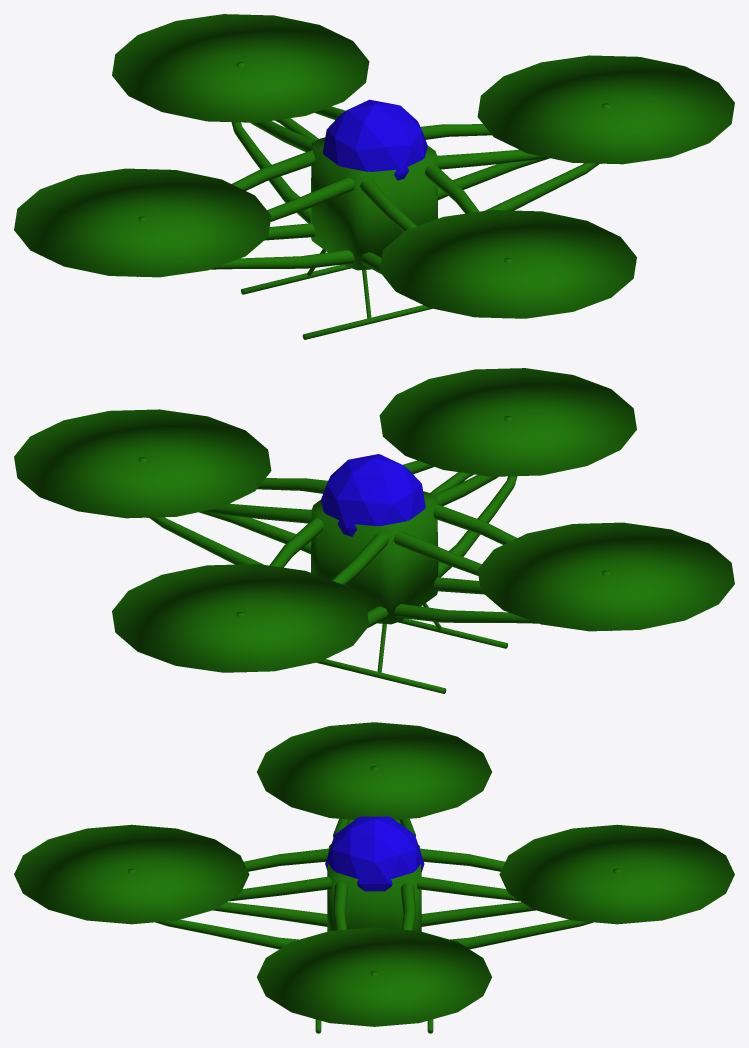
The model's file is BlueWasp_green.dae.
3 renders of one model, top to bottom at view 1: azimuth 30°, elevation 25°; view 2: azimuth 150°, elevation 25°; view 3: azimuth 270°, elevation 25°, orthographic. The views are drawn at different scales.
Parts seen in each view (by area): view 1: SM_Quadrotor, Icosphere; view 2: SM_Quadrotor, Icosphere; view 3: SM_Quadrotor, Icosphere.
Part boxes in pixels (x1,y1,x2,y2): SM_Quadrotor: (14, 14, 734, 339); Icosphere: (323, 99, 427, 180); SM_Quadrotor: (14, 368, 734, 693); Icosphere: (321, 454, 425, 536); SM_Quadrotor: (14, 722, 734, 1033); Icosphere: (325, 816, 424, 891).
Size of the model in its own units: 0.5097 by 0.5097 by 0.1331.
